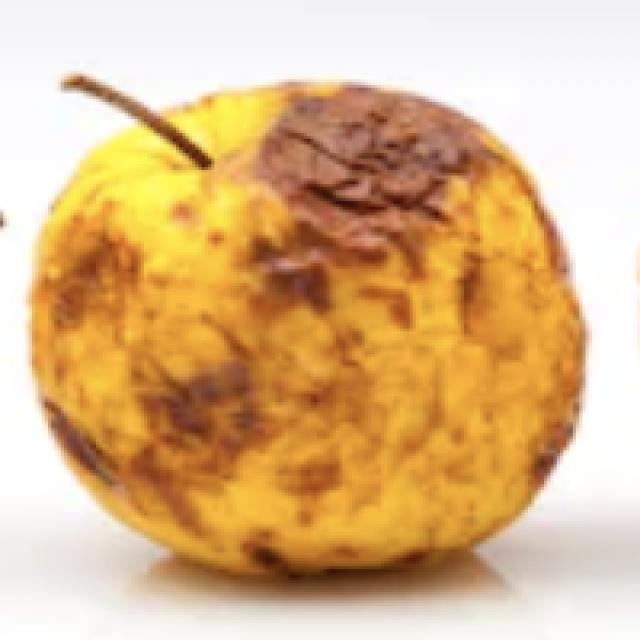Rotten: (25, 75, 591, 578)
